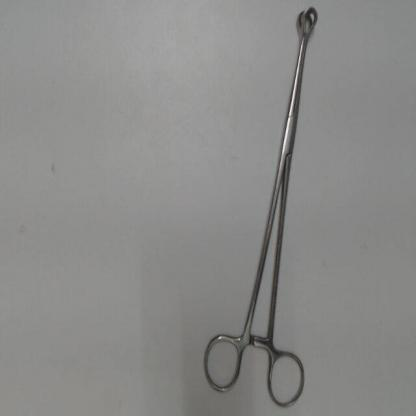8 Babcock Tissue Forceps: (198, 5, 324, 413)
